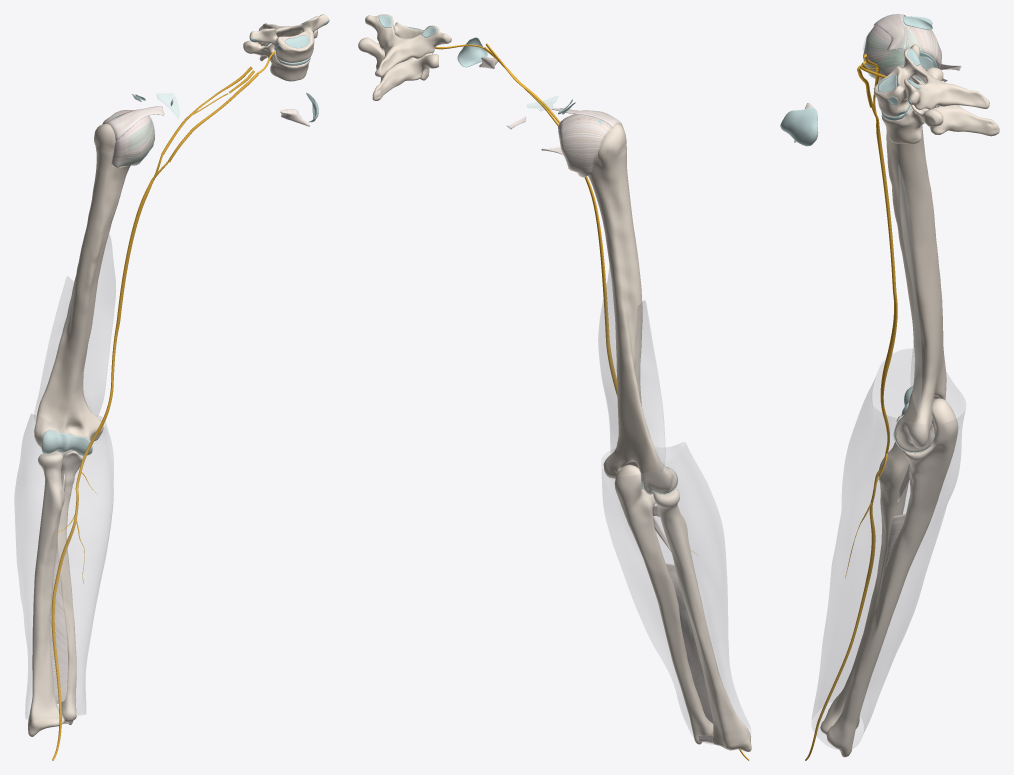
The model's file is open3dmodel-median-nerve.glb.
The picture shows the model from 3 angles, left to right: view 1: azimuth 30°, elevation 25°; view 2: azimuth 150°, elevation 25°; view 3: azimuth 270°, elevation 25°; orthographic projection. The views are drawn at different scales.
Visible parts, largest first — view 1: Antebrachial fascia.r, Humerus.r, Radius.r, Medial intermuscular septum of arm.r, Ulna.r, Median nerve.r, Thoracic vertebra (T1), Interosseous membrane of forearm.r, Articular capsule of glenohumeral joint.r, Lateral intermuscular septum of arm.r, Thoracic vertebra (T2), Art cart of humerus distal end.r (+1 smaller); view 2: Antebrachial fascia.r, Humerus.r, Ulna.r, Radius.r, Lateral intermuscular septum of arm.r, Thoracic vertebra (T1), Articular capsule of glenohumeral joint.r, Medial intermuscular septum of arm.r, Thoracic vertebra (T2), Interosseous membrane of forearm.r, Median nerve.r; view 3: Antebrachial fascia.r, Humerus.r, Ulna.r, Radius.r, Thoracic vertebra (T1), Thoracic vertebra (T2), Median nerve.r, Articular capsule of glenohumeral joint.r, Medial intermuscular septum of arm.r, Articular cartilage of sternoclavicular joint on clavicle.r, Coracohumeral ligament.r, Vertebra T1 art cart (+1 smaller).
Part boxes in pixels (box(x1,y1,x2,y2)): Antebrachial fascia.r: box(14, 414, 113, 718); Humerus.r: box(34, 123, 130, 449); Radius.r: box(28, 451, 64, 736); Medial intermuscular septum of arm.r: box(82, 234, 115, 416); Ulna.r: box(57, 450, 83, 724); Median nerve.r: box(51, 177, 155, 760); Thoracic vertebra (T1): box(249, 14, 328, 62); Interosseous membrane of forearm.r: box(50, 540, 67, 703); Articular capsule of glenohumeral joint.r: box(102, 110, 154, 168); Lateral intermuscular septum of arm.r: box(34, 276, 74, 421); Thoracic vertebra (T2): box(243, 29, 317, 81); Art cart of humerus distal end.r: box(42, 430, 92, 455); Antebrachial fascia.r: box(601, 442, 751, 744); Humerus.r: box(588, 123, 677, 494); Ulna.r: box(614, 465, 713, 744); Radius.r: box(653, 488, 751, 751); Lateral intermuscular septum of arm.r: box(634, 300, 665, 470); Thoracic vertebra (T1): box(365, 14, 451, 77); Articular capsule of glenohumeral joint.r: box(558, 114, 611, 177); Medial intermuscular septum of arm.r: box(598, 267, 618, 453); Thoracic vertebra (T2): box(358, 37, 438, 100); Interosseous membrane of forearm.r: box(665, 563, 713, 723); Median nerve.r: box(585, 176, 749, 760); Antebrachial fascia.r: box(812, 349, 965, 749); Humerus.r: box(886, 15, 946, 452); Ulna.r: box(826, 398, 958, 757); Radius.r: box(820, 415, 909, 734); Thoracic vertebra (T1): box(873, 44, 989, 116); Thoracic vertebra (T2): box(881, 67, 999, 144); Median nerve.r: box(805, 117, 897, 760); Articular capsule of glenohumeral joint.r: box(863, 16, 941, 81); Medial intermuscular septum of arm.r: box(898, 165, 921, 417); Articular cartilage of sternoclavicular joint on clavicle.r: box(780, 107, 818, 146); Coracohumeral ligament.r: box(873, 14, 907, 50); Vertebra T1 art cart: box(878, 49, 928, 116).
Bounding box in the file's own units: 0.3282 × 0.6139 × 0.139.
Materials: 13 (3 with a texture image).
